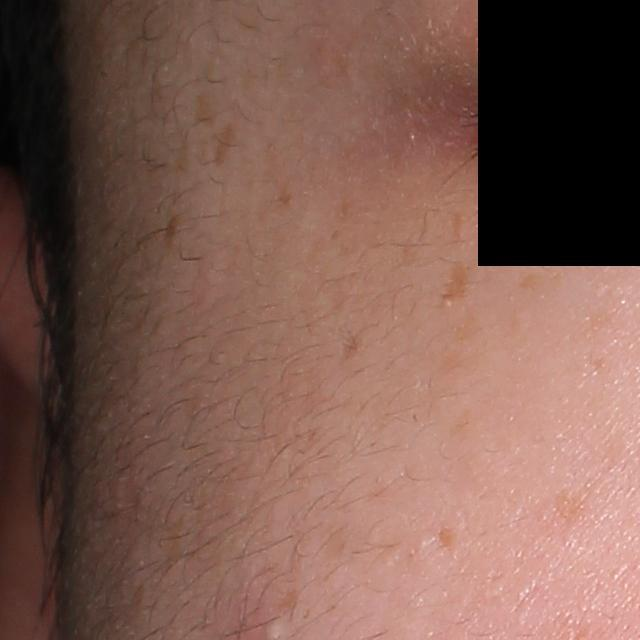melasma: (551, 485, 596, 527), (447, 258, 474, 301), (212, 123, 236, 166), (449, 210, 467, 246), (517, 272, 545, 293)
